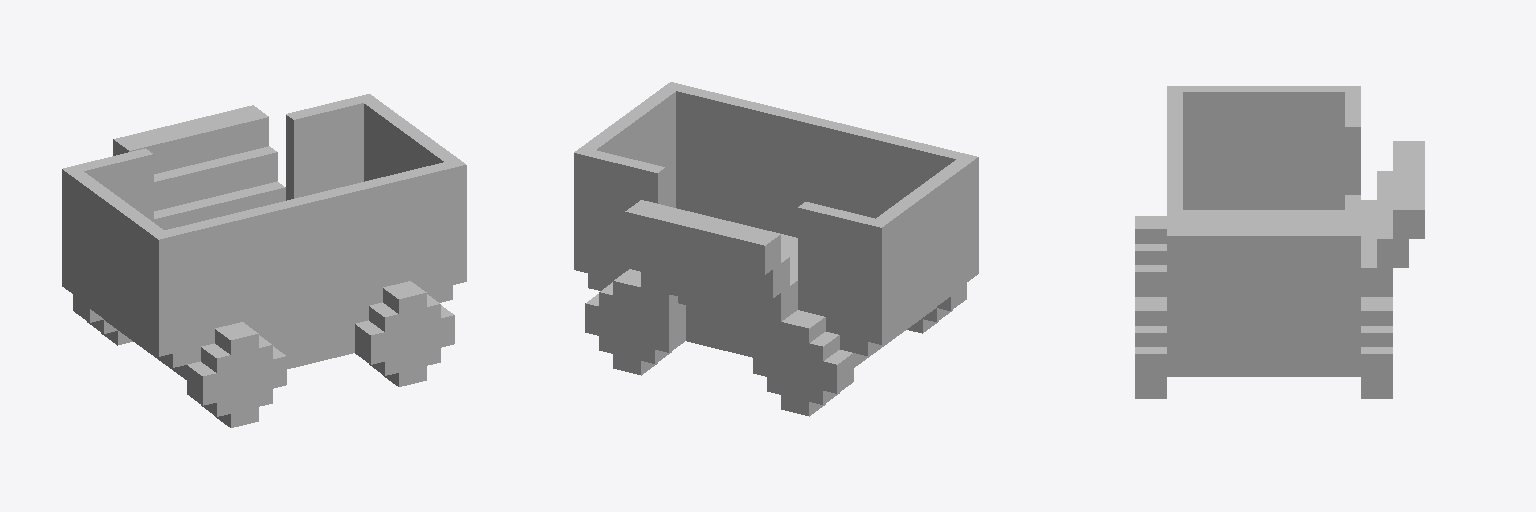
Rendered from mine cart open 0.33.obj.
The picture shows the model from 3 angles: view 1: azimuth 30°, elevation 25°; view 2: azimuth 150°, elevation 25°; view 3: azimuth 270°, elevation 25°; orthographic projection.
Parts seen in each view (by area): view 1: object 1; view 2: object 1; view 3: object 1.
Boxes of the visible parts, x1=… form: object 1: x1=62, y1=94, x2=466, y2=427; object 1: x1=574, y1=82, x2=978, y2=416; object 1: x1=1135, y1=86, x2=1424, y2=398.
Bounding box in the file's own units: 2.2 × 1.3 × 1.8.